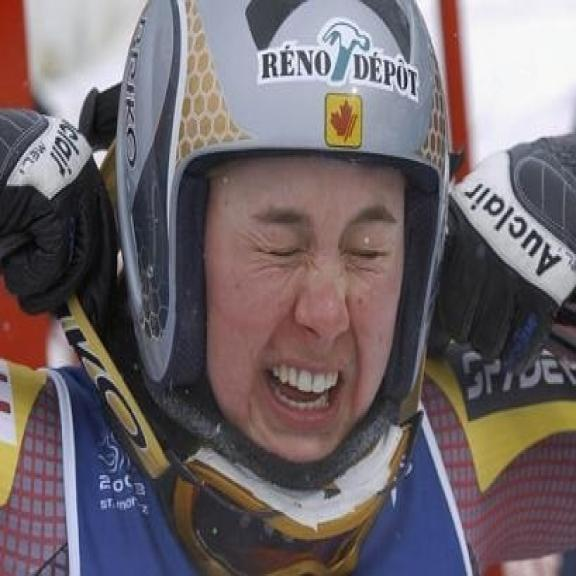face: (207, 164, 402, 461)
